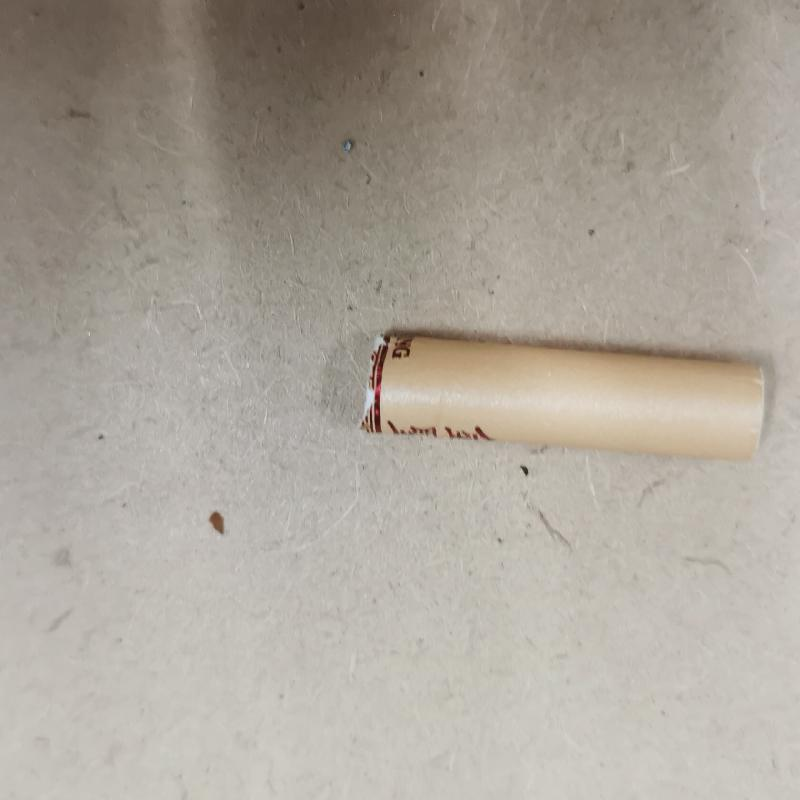cigarette: (347, 313, 779, 485)
